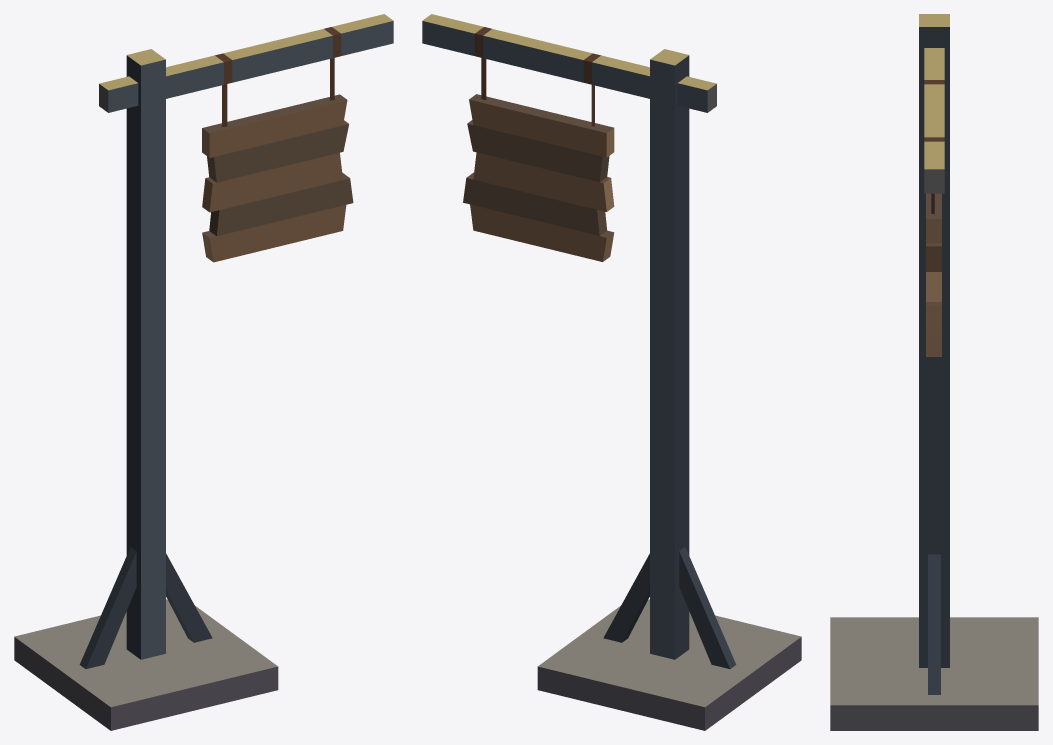
File: TB_D_Prop_Sign_Store_Blank_A.FBX
3 views of the same model, side by side, from view 1: azimuth 30°, elevation 25°; view 2: azimuth 150°, elevation 25°; view 3: azimuth 270°, elevation 25° (orthographic). The views are drawn at different scales.
Parts seen in each view (by area): view 1: TB_D_Prop_Sign_Store_Blank_A; view 2: TB_D_Prop_Sign_Store_Blank_A; view 3: TB_D_Prop_Sign_Store_Blank_A.
Part boxes in pixels (x1,y1,x2,y2): TB_D_Prop_Sign_Store_Blank_A: (14, 14, 393, 730); TB_D_Prop_Sign_Store_Blank_A: (422, 14, 801, 730); TB_D_Prop_Sign_Store_Blank_A: (830, 14, 1038, 730).
Size of the model in its own units: 1.57 by 2.84 by 0.8046.
